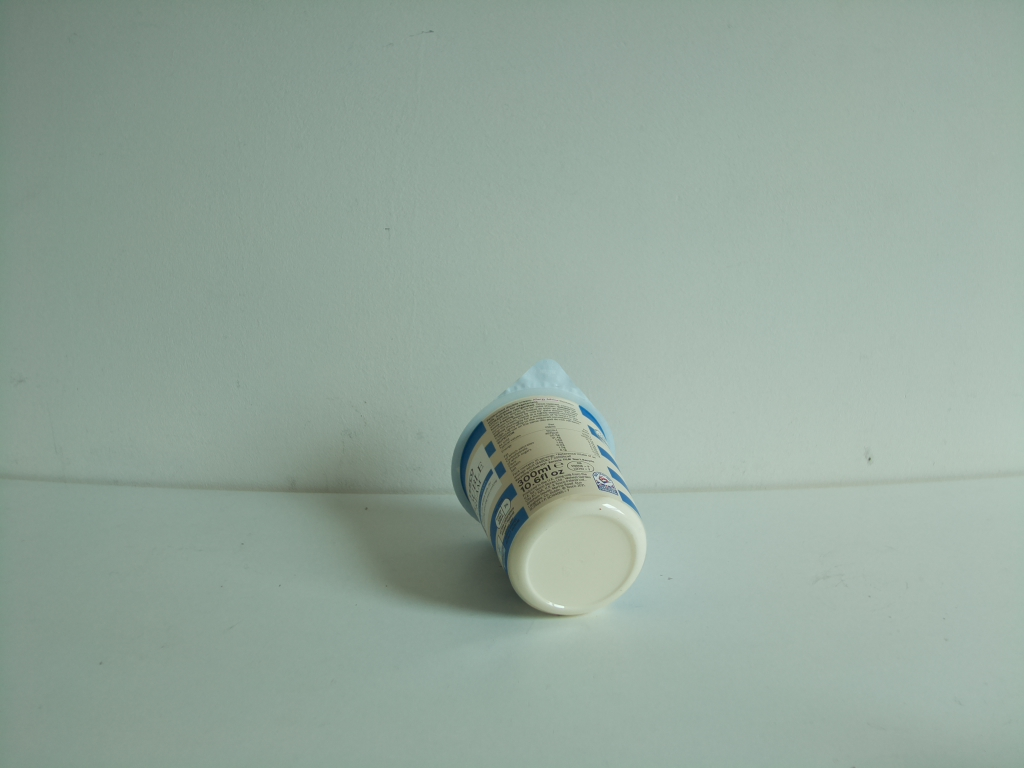cream: (452, 352, 649, 617)
